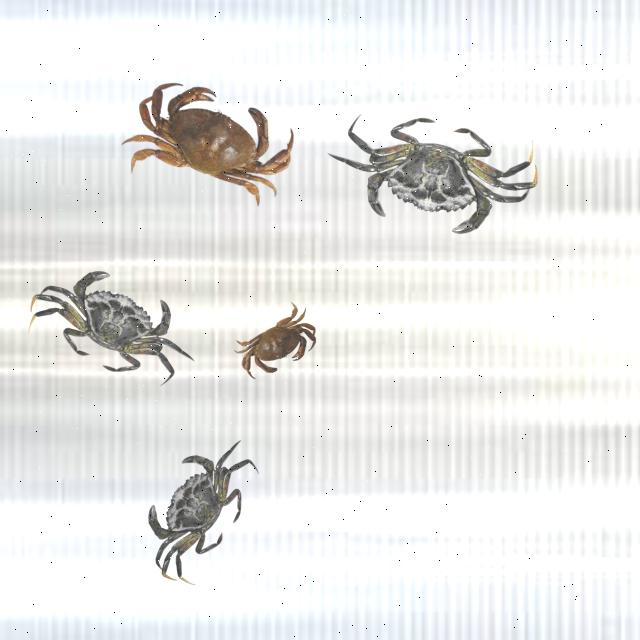European_Green_Crab: (323, 98, 545, 253), (22, 244, 208, 402), (118, 419, 276, 591)
